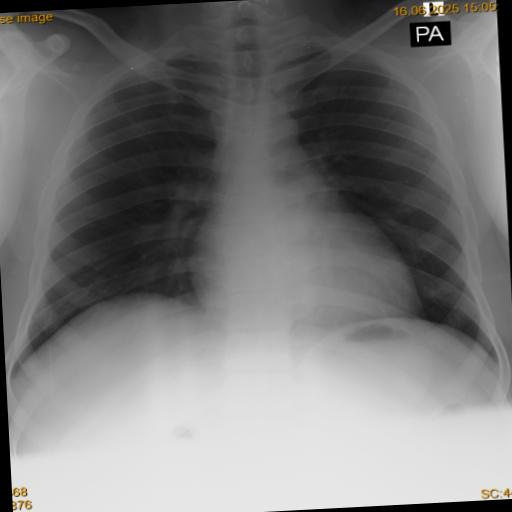kardiomegali: (0, 4, 502, 389)
